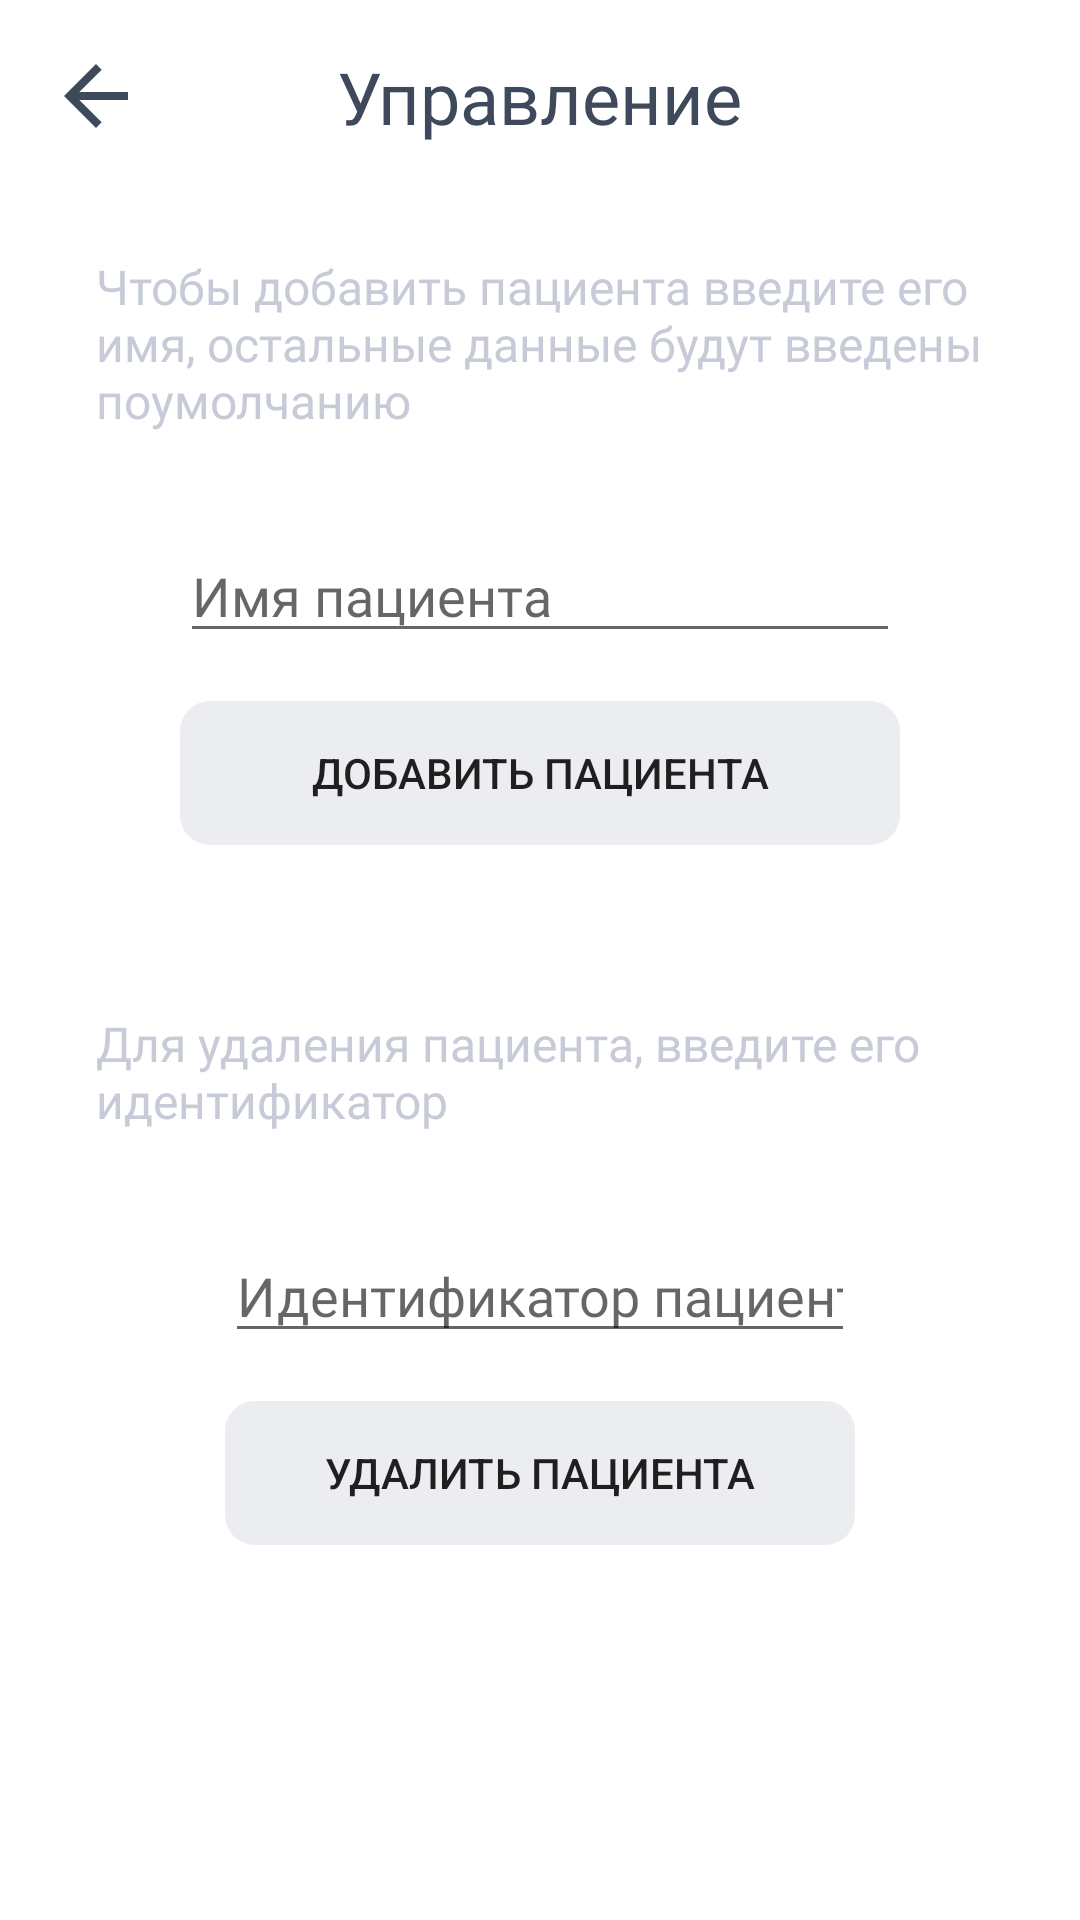

Icons on this 1080×1920 Android screen, each with its box as [x1=x1, y1=y1, x2=x2, y2=y2]:
back arrow: [x1=64, y1=64, x2=128, y2=128]
